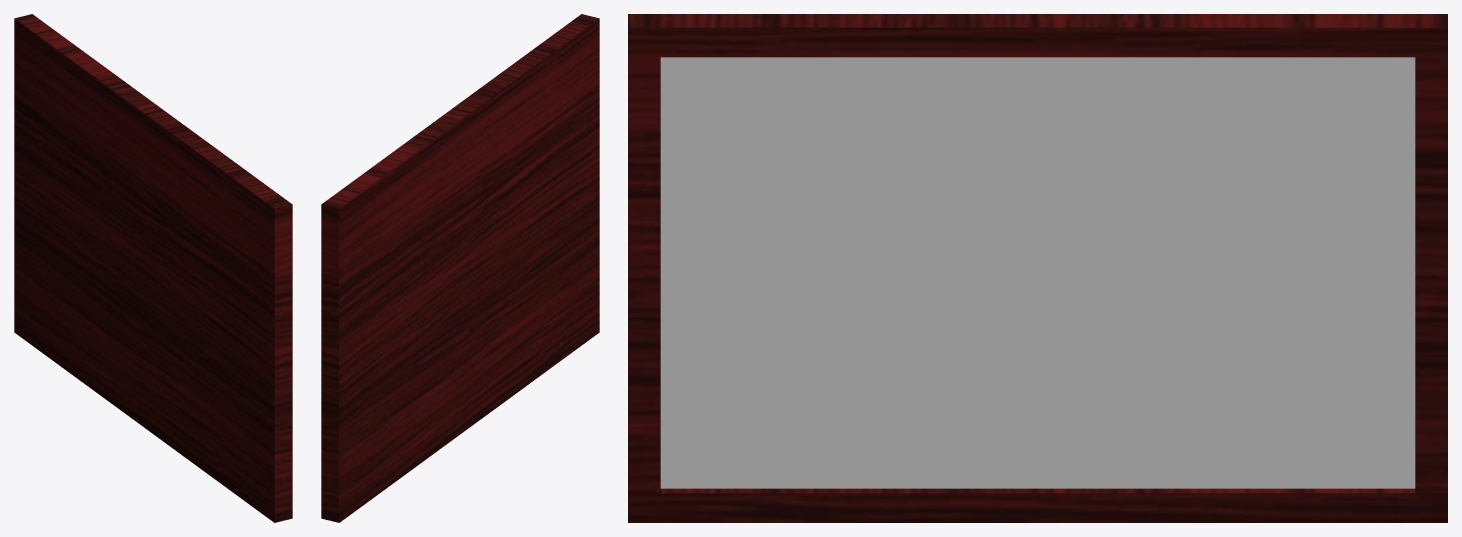
Rendered from frame.fbx.
3 views of the same model, side by side, from view 1: azimuth 30°, elevation 25°; view 2: azimuth 150°, elevation 25°; view 3: azimuth 270°, elevation 25° (orthographic). The views are drawn at different scales.
Parts seen in each view (by area): view 1: Frame; view 2: Frame; view 3: Frame.
Part boxes in pixels (bbox=[...]): Frame: bbox=[14, 14, 292, 522]; Frame: bbox=[321, 14, 599, 522]; Frame: bbox=[628, 14, 1447, 522].
Bounding box in the file's own units: 150 × 2506 × 3761.
2 materials, 1 textured.
